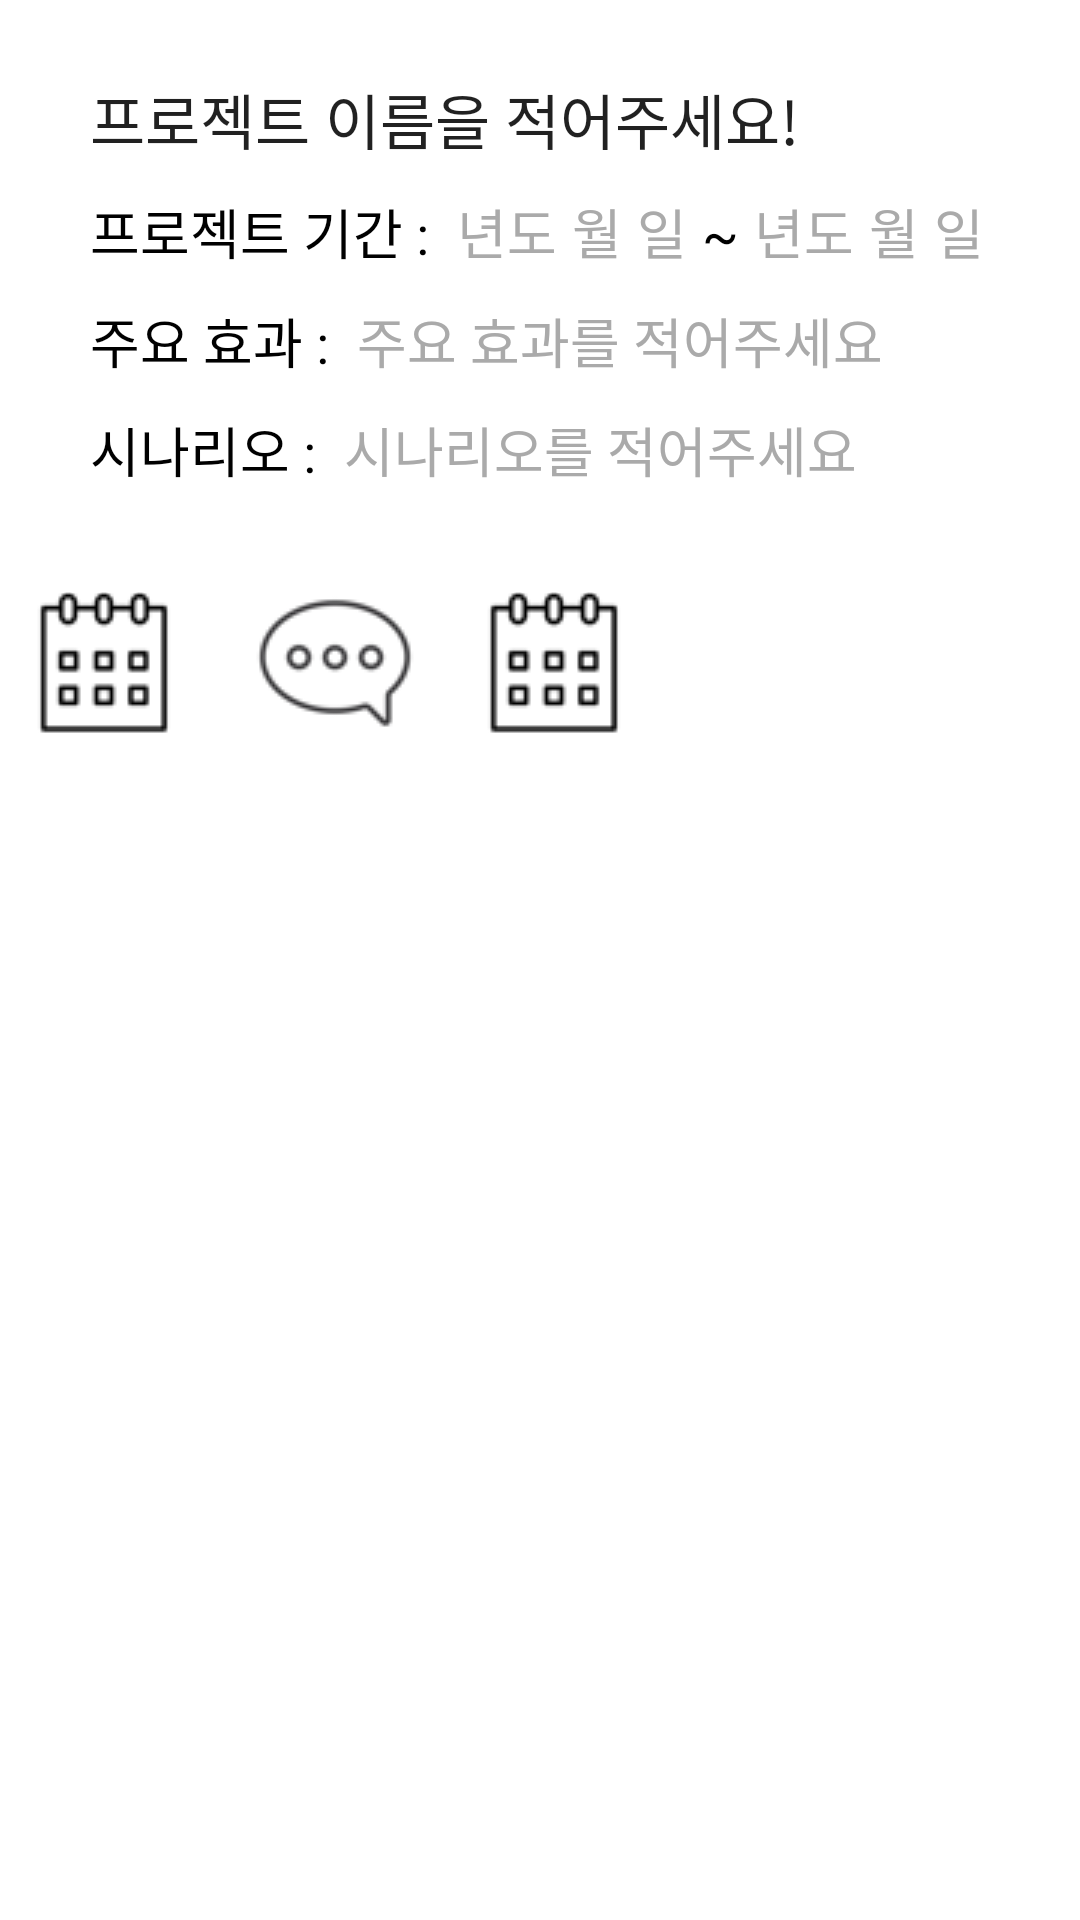

Where to tap for icons on this 1080px x 1920px app screen, as [x,y]:
chat: [335,663]
timetable: [104,662], [554,662]
